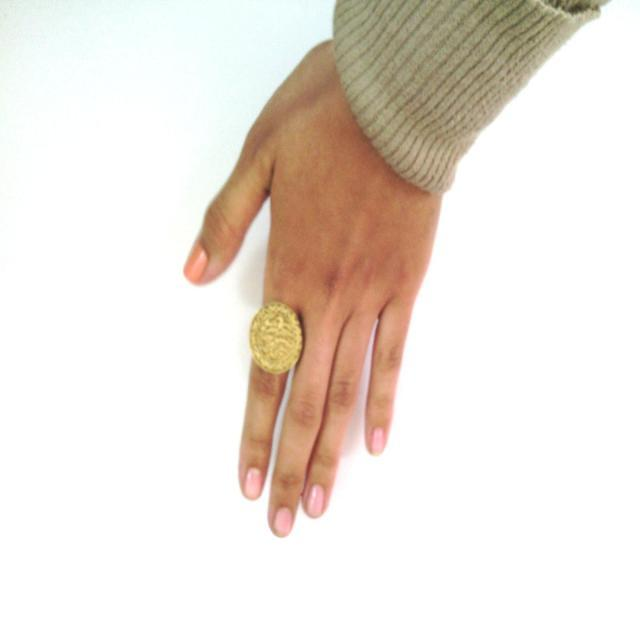Fingernail: (186, 245, 206, 280), (306, 484, 324, 517), (246, 469, 262, 499), (275, 508, 292, 536), (371, 429, 385, 455)
